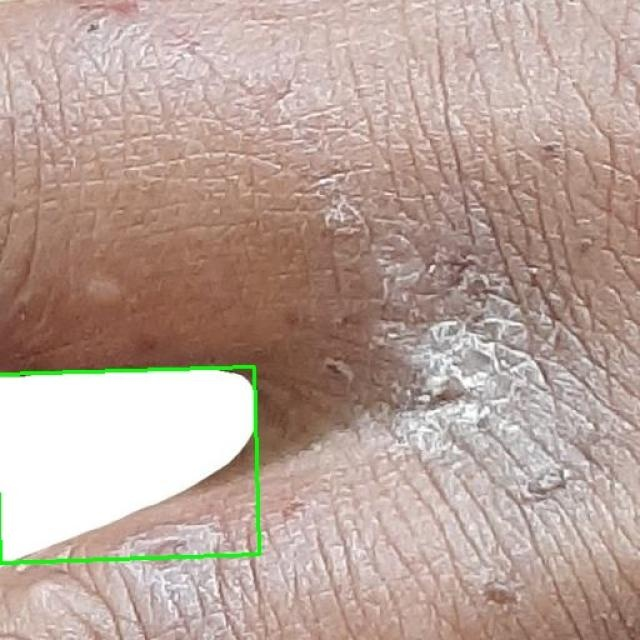Scabies: (0, 366, 260, 563)
